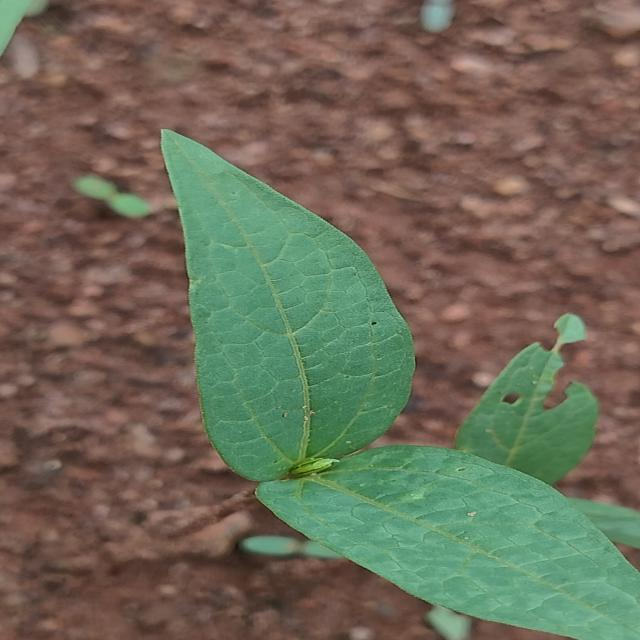Black gram_healthy: (157, 132, 417, 486), (265, 442, 640, 640)
